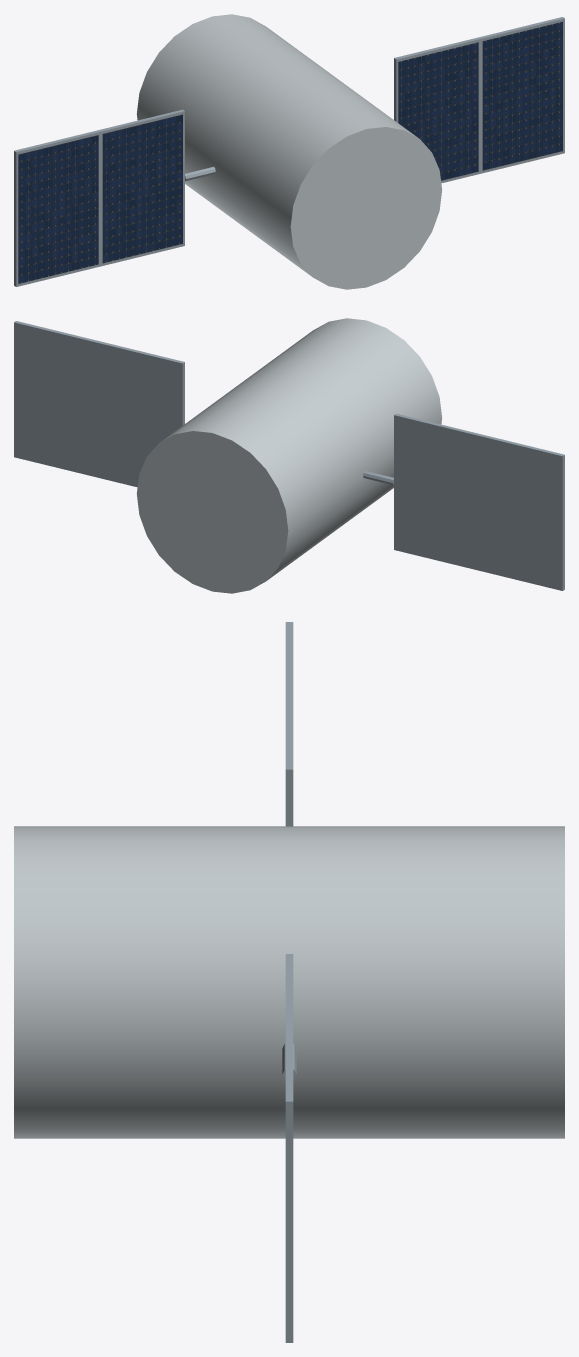
The model's file is ref-cygnus-39258.glb.
3 views of the same model, one above another, from view 1: azimuth 30°, elevation 25°; view 2: azimuth 150°, elevation 25°; view 3: azimuth 270°, elevation 25° (orthographic). The views are drawn at different scales.
Visible parts, largest first — view 1: Spacecraft body, Photovoltaic laminates (×4), Array frame (×4); view 2: Spacecraft body, Array frame (×4); view 3: Spacecraft body, Array frame (×2).
Boxes of the visible parts, box(x1,y1,x2,y2) form: Spacecraft body: box(136, 14, 442, 289); Photovoltaic laminates (×4): box(18, 21, 562, 283); Array frame (×4): box(14, 17, 564, 286); Spacecraft body: box(136, 318, 442, 593); Array frame (×4): box(14, 321, 564, 590); Spacecraft body: box(14, 826, 564, 1138); Array frame (×2): box(285, 696, 293, 1342).
Size of the model in its own units: 10.5 by 2.9 by 5.1.
3 materials, 1 textured.
